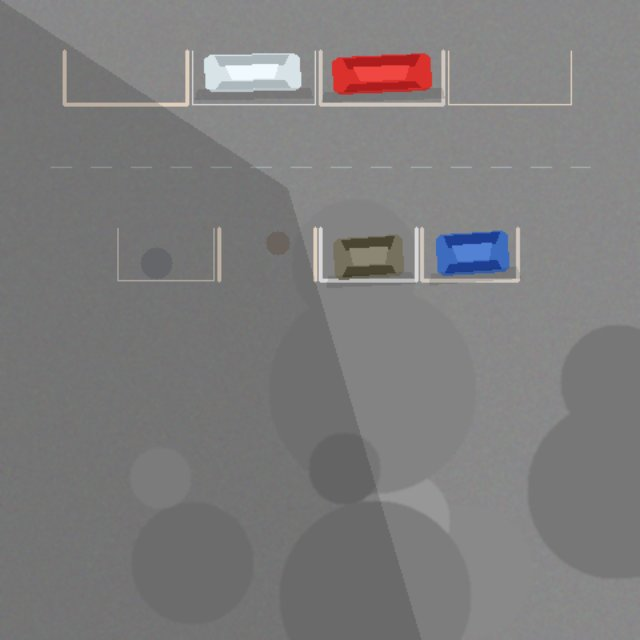space-empty: (64, 51, 187, 104), (448, 51, 571, 104), (117, 228, 213, 280), (219, 228, 315, 280)
space-occupied: (192, 51, 315, 104), (320, 51, 443, 104), (320, 228, 416, 280), (421, 228, 517, 280)
